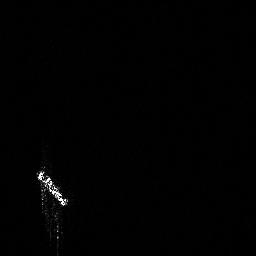ship: (33, 166, 72, 210)
